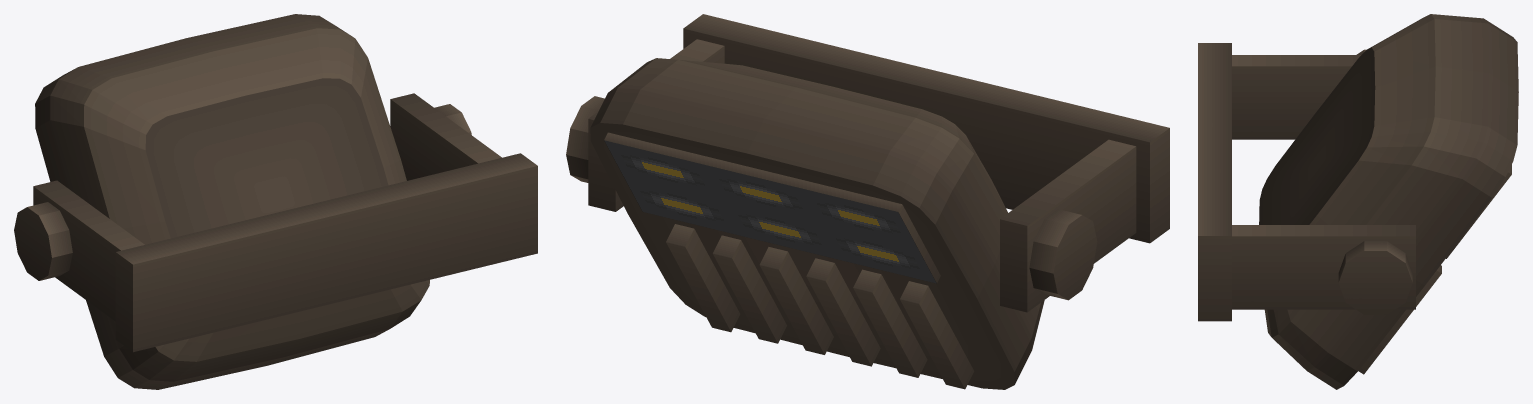
The model's file is floodlight_lithdsxf1yk.obj.
3 renders of one model, left to right at view 1: azimuth 30°, elevation 25°; view 2: azimuth 150°, elevation 25°; view 3: azimuth 270°, elevation 25°, orthographic. The views are drawn at different scales.
Parts seen in each view (by area): view 1: fixture; view 2: fixture; view 3: fixture.
Part boxes in pixels (bbox=[...]): fixture: bbox=[14, 14, 537, 389]; fixture: bbox=[566, 14, 1169, 389]; fixture: bbox=[1198, 14, 1518, 389].
Size of the model in its own units: 0.442 by 0.2748 by 0.2974.
